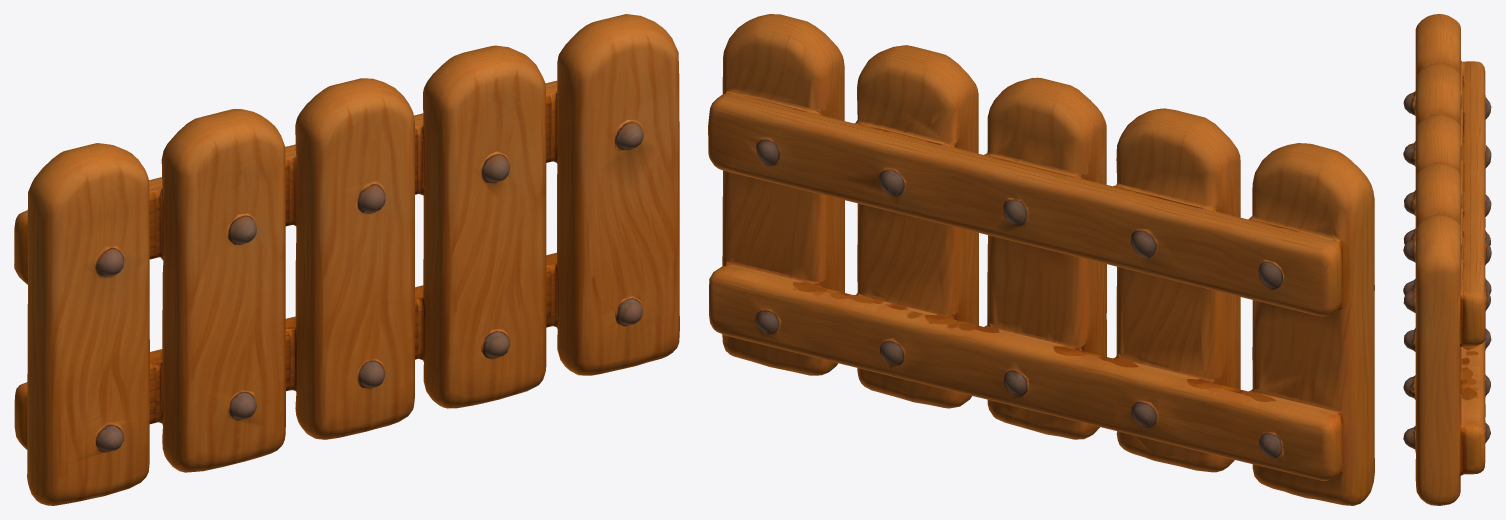
File: ck_fence.glb
The picture shows the model from 3 angles, left to right: view 1: azimuth 30°, elevation 25°; view 2: azimuth 150°, elevation 25°; view 3: azimuth 270°, elevation 25°; orthographic projection. The views are drawn at different scales.
Visible parts, largest first — view 1: ck_fence; view 2: ck_fence; view 3: ck_fence.
Boxes of the visible parts, box(x1,y1,x2,y2) form: ck_fence: box(14, 14, 679, 505); ck_fence: box(708, 14, 1374, 505); ck_fence: box(1403, 14, 1491, 505).
Size of the model in its own units: 1.97 by 1.03 by 0.306.
1 material, 1 textured.
